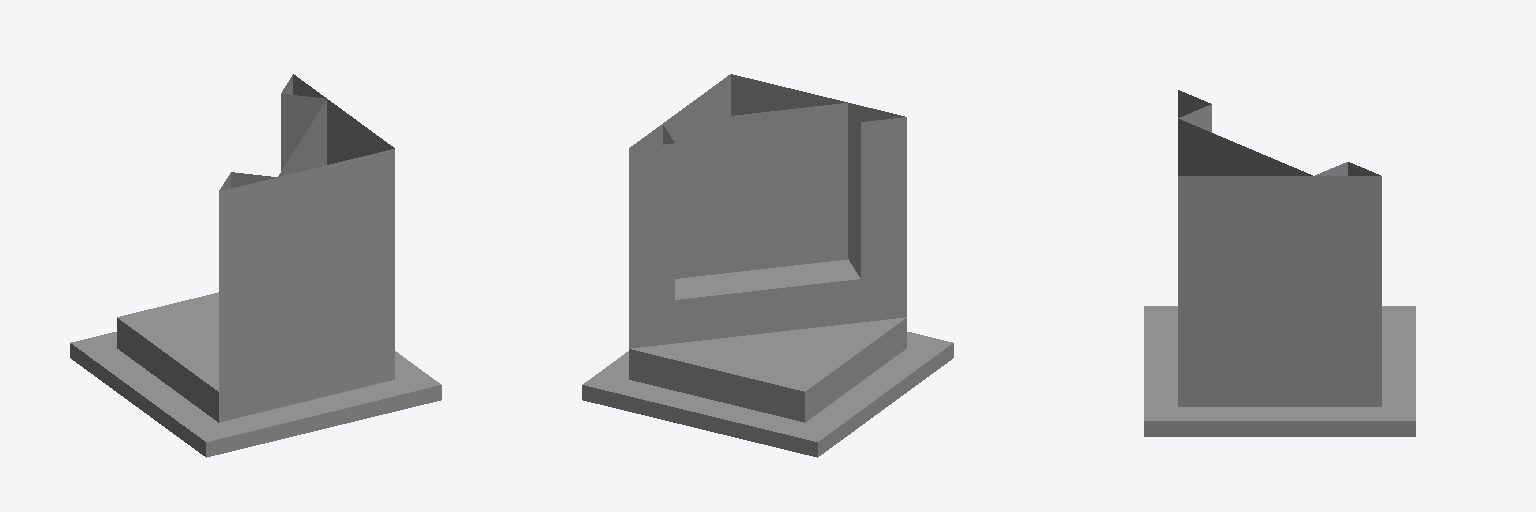
Rendered from marker_switch_podium_bottom.obj.
The picture shows the model from 3 angles: view 1: azimuth 30°, elevation 25°; view 2: azimuth 150°, elevation 25°; view 3: azimuth 270°, elevation 25°; orthographic projection.
Parts seen in each view (by area): view 1: podium.003_Cube.011, base.001_Cube.013, Cube.003_Cube.012; view 2: podium.003_Cube.011, base.001_Cube.013, Cube.003_Cube.012; view 3: podium.003_Cube.011, Cube.003_Cube.012, base.001_Cube.013.
Part boxes in pixels (x1,y1,x2,y2): podium.003_Cube.011: (219, 74, 394, 391); base.001_Cube.013: (117, 292, 394, 422); Cube.003_Cube.012: (70, 332, 441, 457); podium.003_Cube.011: (629, 74, 906, 348); base.001_Cube.013: (629, 317, 906, 422); Cube.003_Cube.012: (582, 332, 953, 457); podium.003_Cube.011: (1178, 90, 1381, 375); Cube.003_Cube.012: (1144, 306, 1415, 436); base.001_Cube.013: (1178, 376, 1381, 406).
Bounding box in the file's own units: 1 × 1 × 1.